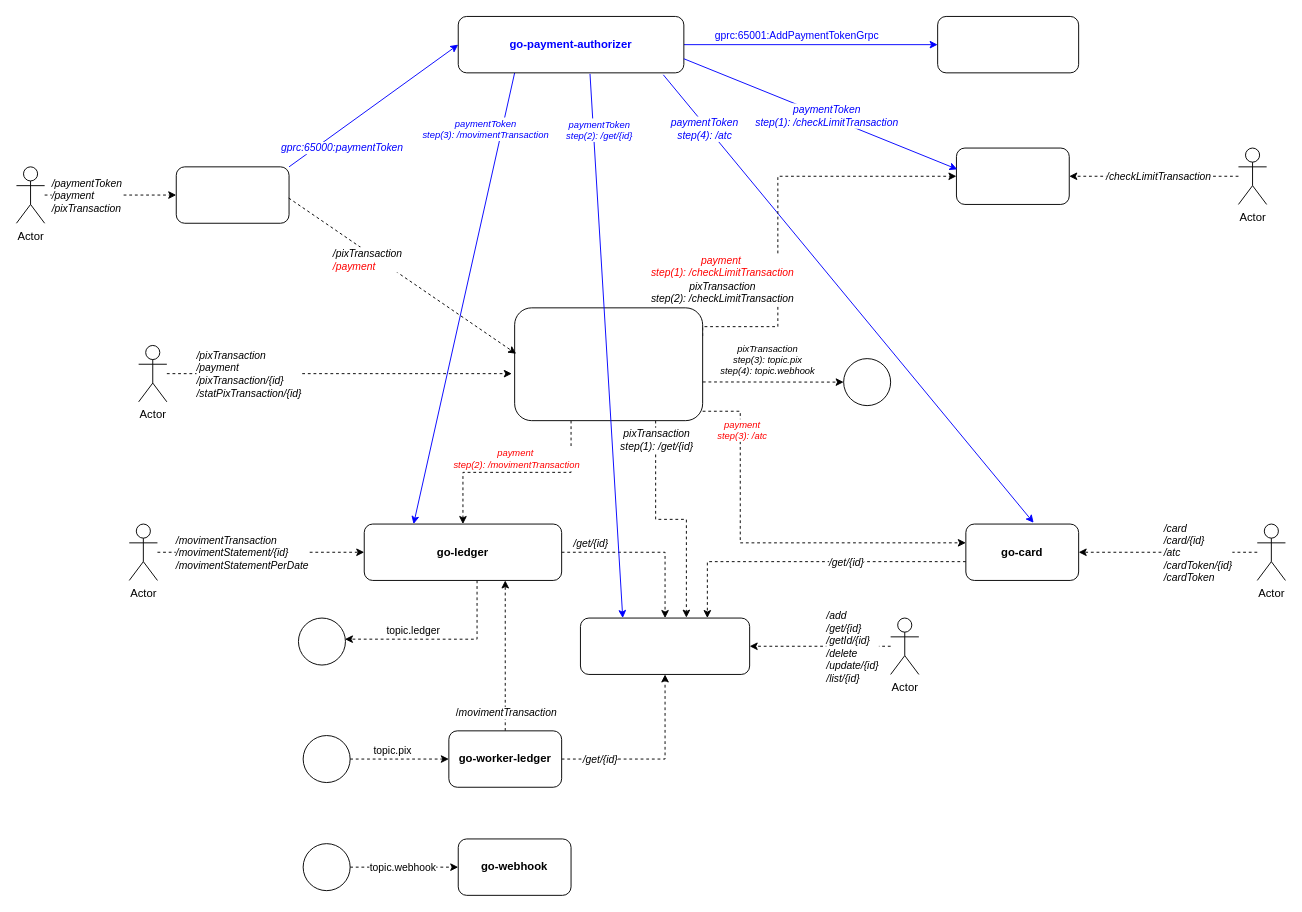
Image size: 1302x912. Some labels were removed from this diagram. Here are the shapes that lost their labels. From the top down, the centre of each, then its label:
[1008,44]: go-tokenization-gprc
[232,194]: go-gateway-grpc
[1012,175]: go-limit
[608,364]: go-payment-gateway
[665,645]: go-account
